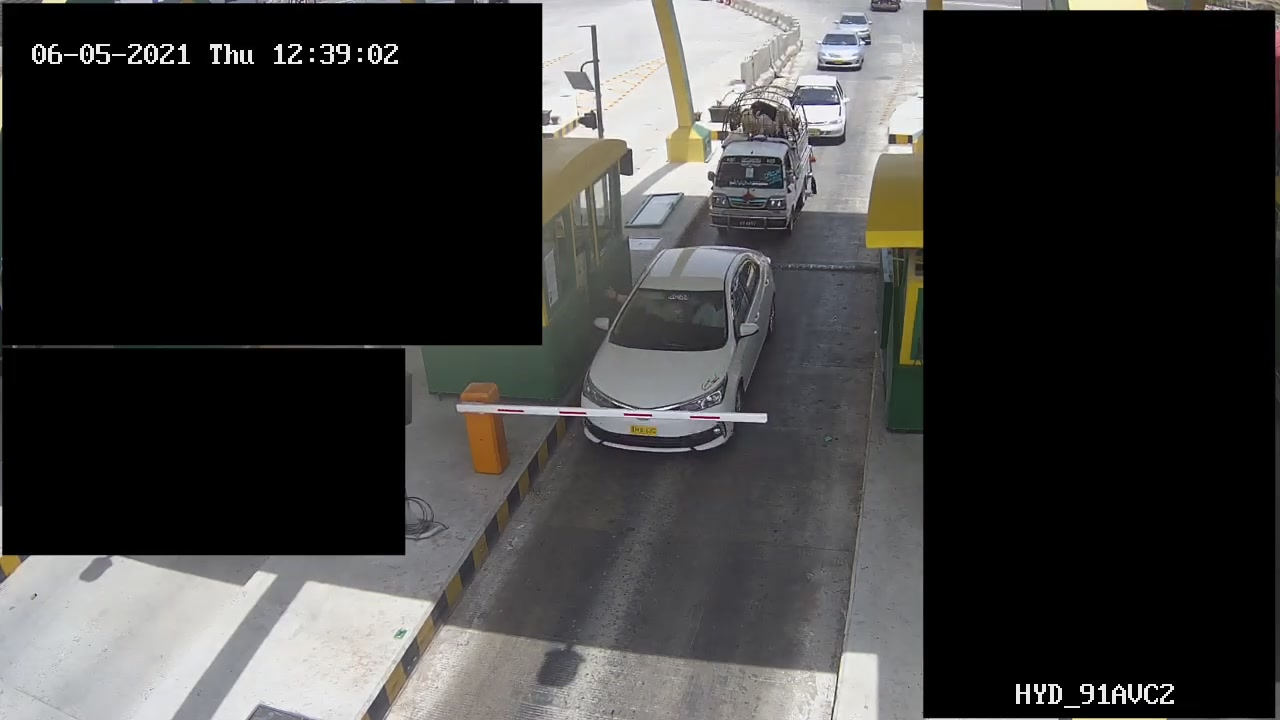F1: (577, 232, 771, 448), (701, 89, 812, 238)
